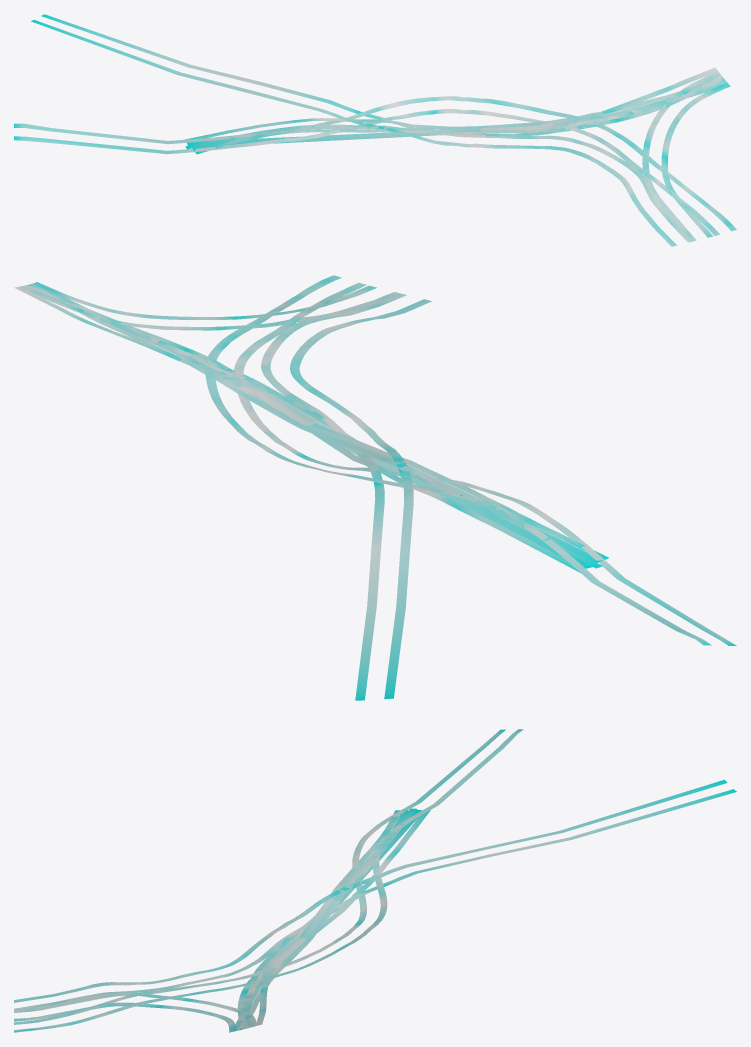
The picture shows the model from 3 angles, top to bottom: view 1: azimuth 30°, elevation 25°; view 2: azimuth 150°, elevation 25°; view 3: azimuth 270°, elevation 25°; orthographic projection. The views are drawn at different scales.
Visible parts, largest first — view 1: SpaceCenter_Long3_GenerateRoad_Sand_TireTracks_Narrow_Mesh_x; view 2: SpaceCenter_Long3_GenerateRoad_Sand_TireTracks_Narrow_Mesh_x; view 3: SpaceCenter_Long3_GenerateRoad_Sand_TireTracks_Narrow_Mesh_x.
Part boxes in pixels (x1,y1,x2,y2): SpaceCenter_Long3_GenerateRoad_Sand_TireTracks_Narrow_Mesh_x: (14, 14, 736, 246); SpaceCenter_Long3_GenerateRoad_Sand_TireTracks_Narrow_Mesh_x: (14, 275, 736, 700); SpaceCenter_Long3_GenerateRoad_Sand_TireTracks_Narrow_Mesh_x: (14, 729, 736, 1032).
Bounding box in the file's own units: 2296 × 2303 × 211.
